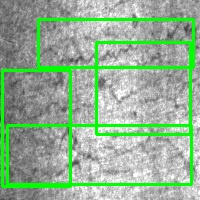crazing: (7, 125, 191, 184), (96, 42, 190, 134), (2, 70, 70, 186), (38, 19, 193, 67)
